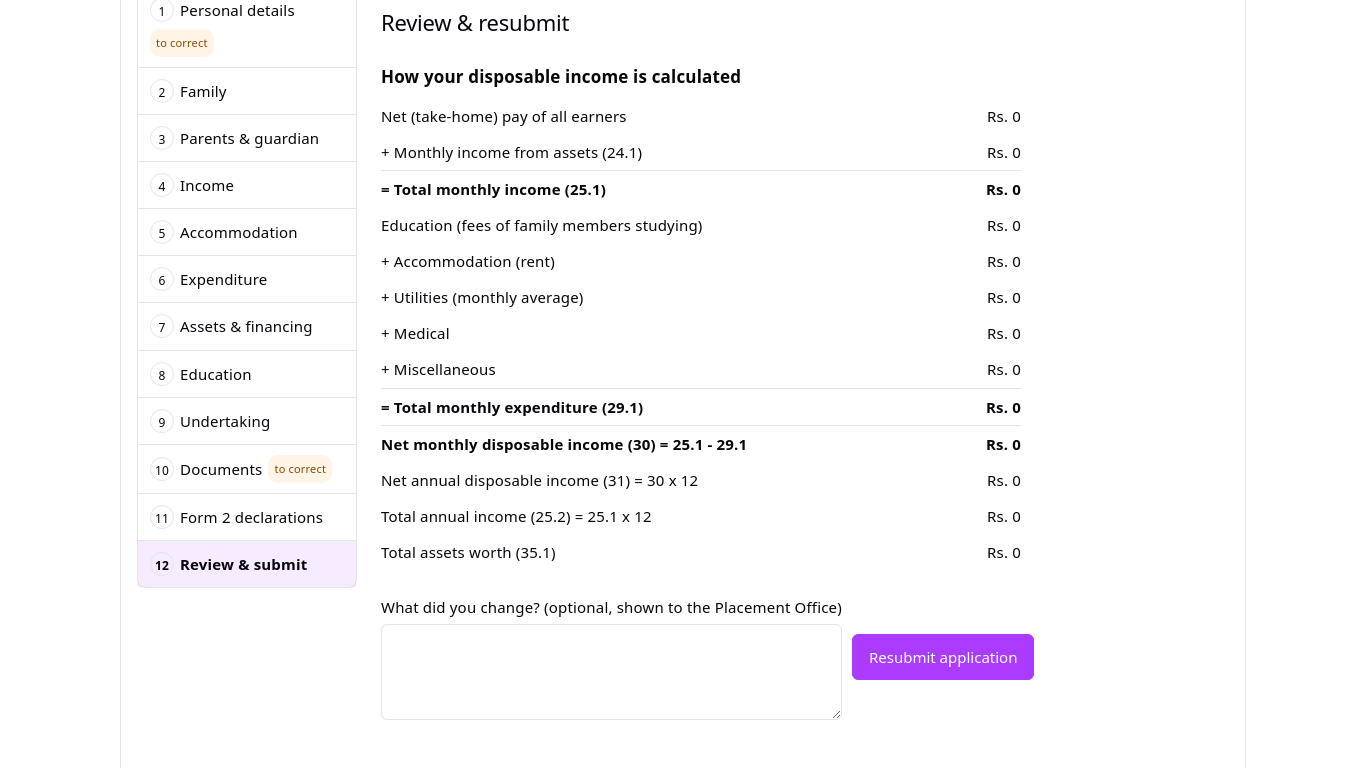
Test: resubmit sends the optional note after confirmation
The width and height of the screenshot is (1366, 768).
(page scrolled)
Expected: the heading "Review & resubmit" is shown, [381,7,569,37]
Type "Corrected my CNIC." into the text box labelled "What did you change" at [611, 672], box [381,624,842,720]
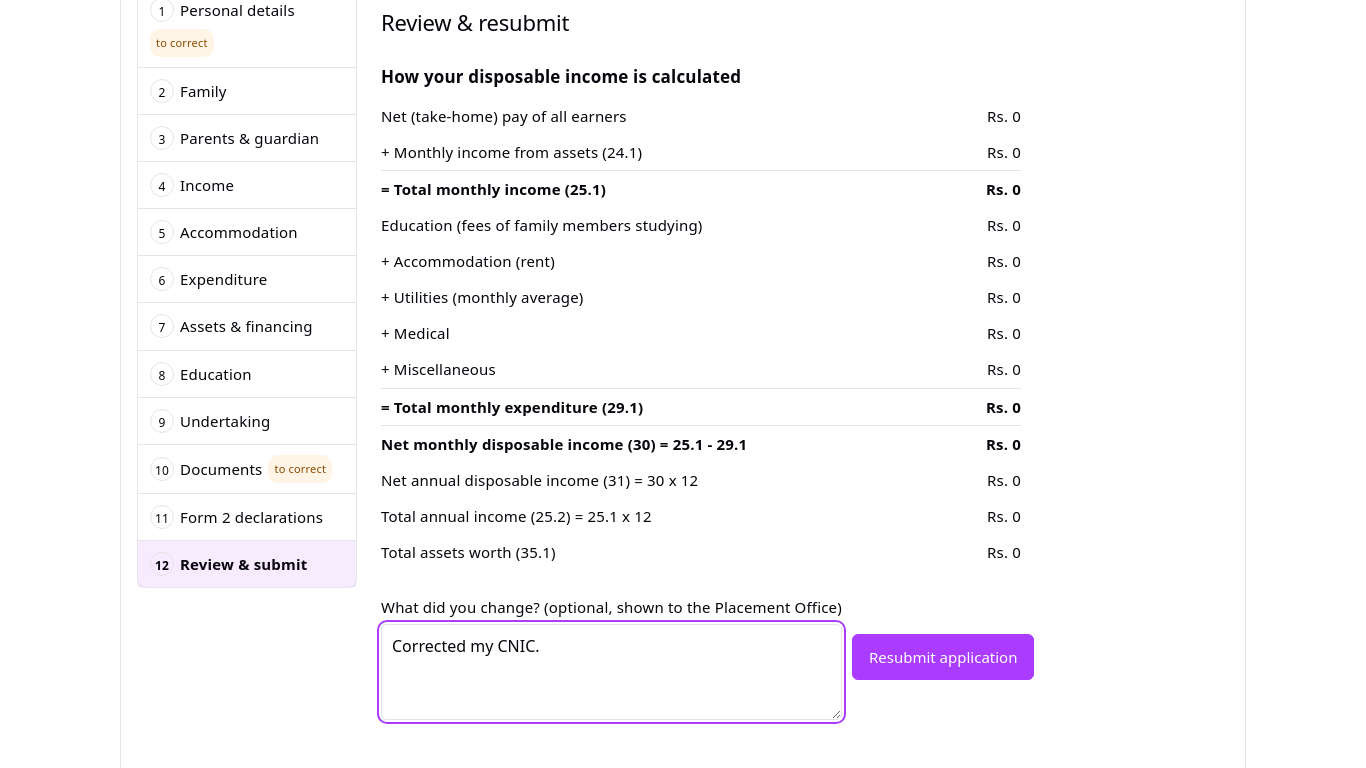
Click the button "Resubmit application" at [943, 657], box [852,634,1034,680]
(page scrolled)
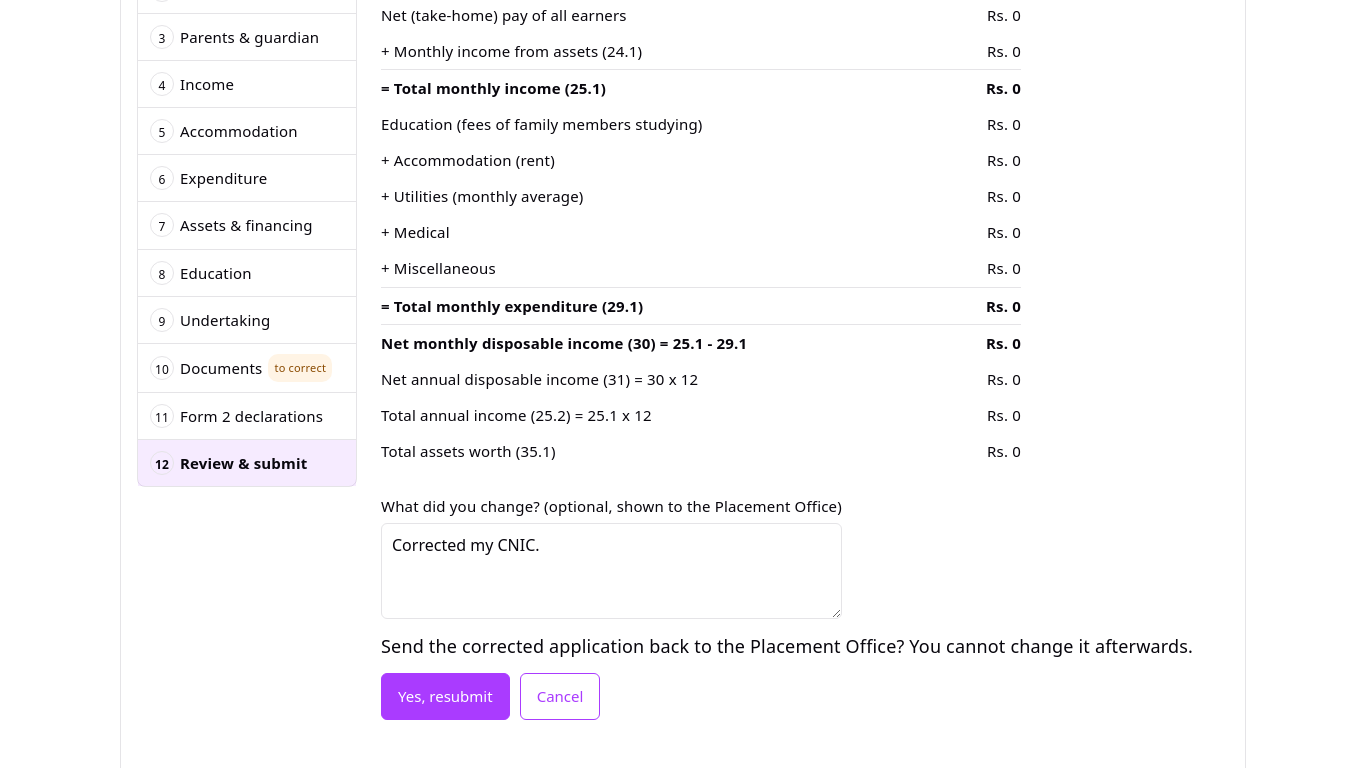
Click the button "Yes, resubmit" at [445, 697], box [381,674,510,720]
(page scrolled)
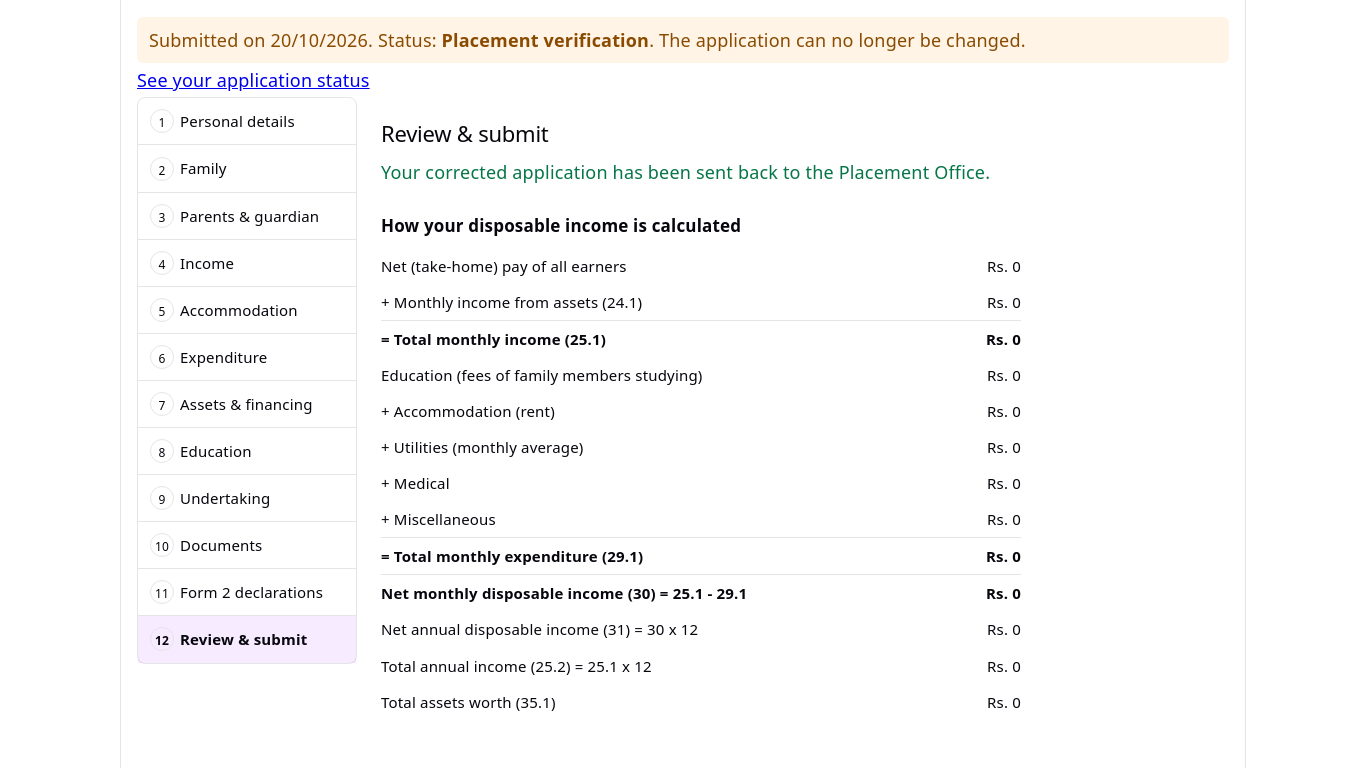
Now the message shows "sent back to the Placement Office", box [381,160,990,184]
